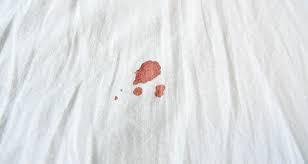blood: (132, 62, 163, 98)
